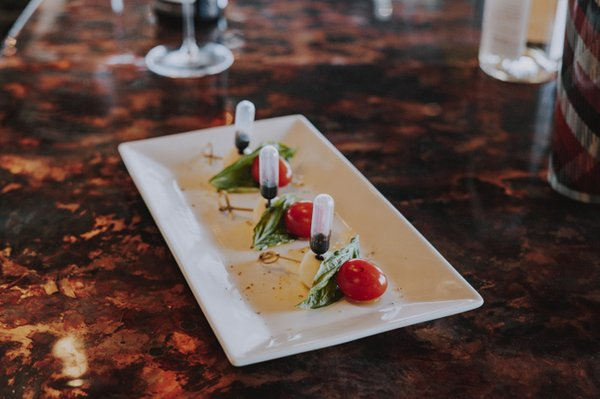pizza: (548, 1, 600, 205), (477, 1, 564, 86)
